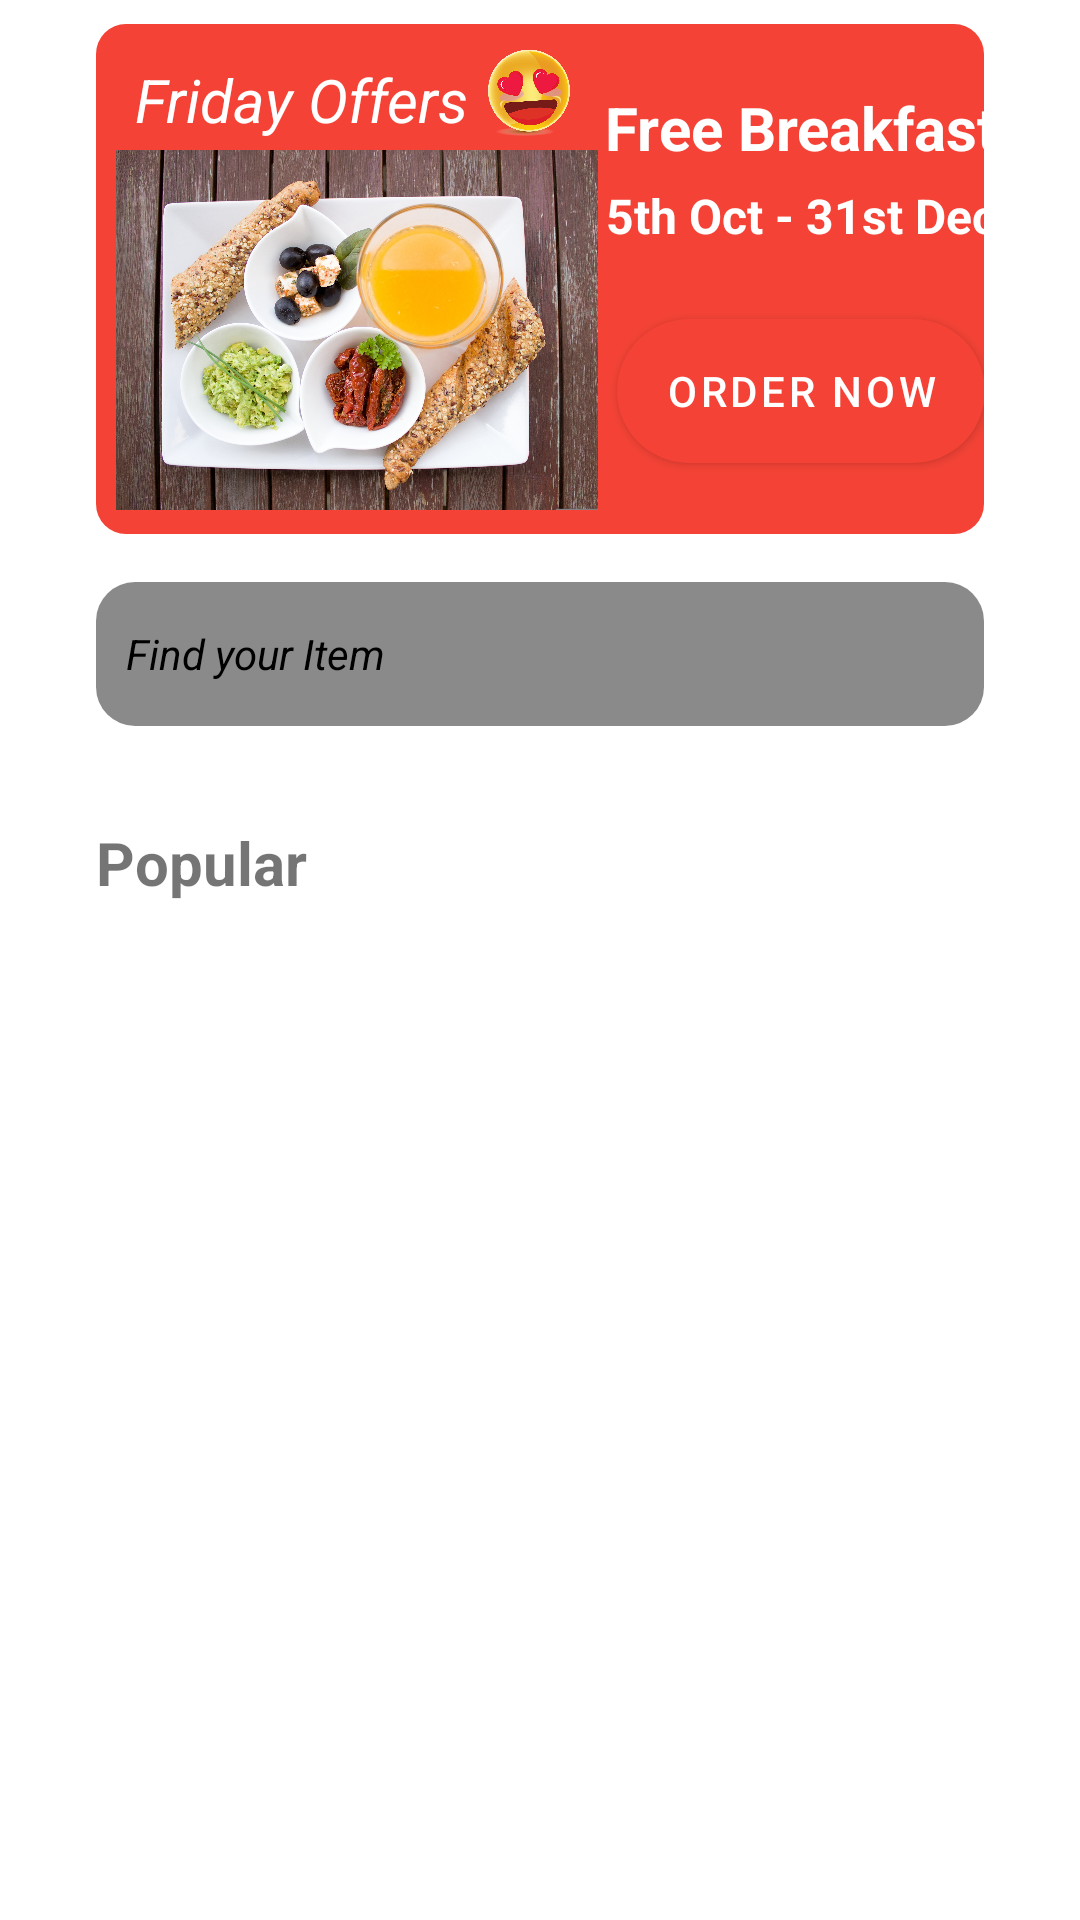

Point at icon controls on the screen. Image size 1080*1920, points as [x,y].
smiley: [529,92]
